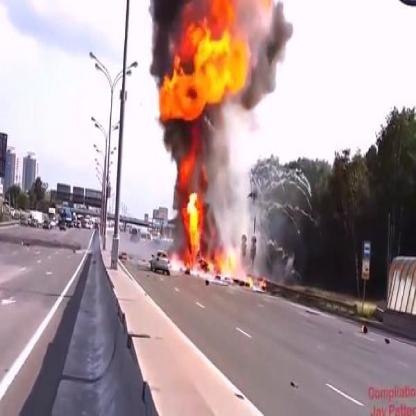fire: (150, 17, 263, 135), (180, 190, 211, 280), (218, 246, 267, 290), (175, 134, 201, 188)
